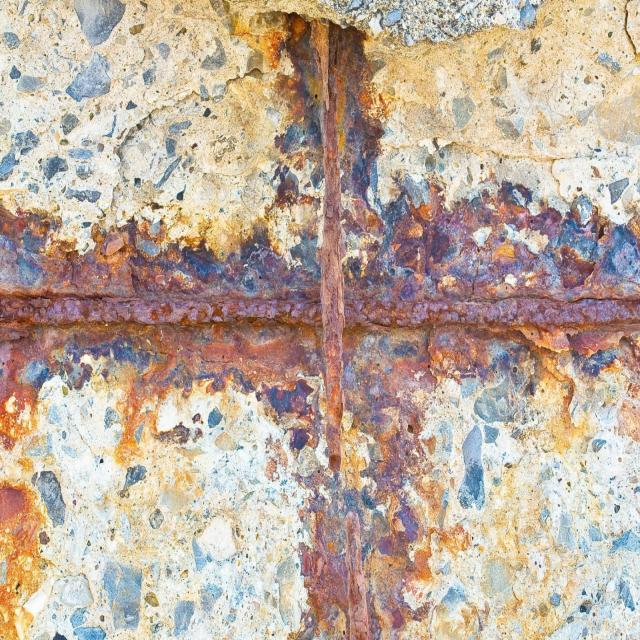corrosion: (4, 18, 639, 632)
